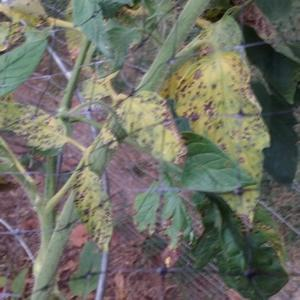Tomato Septoria leaf spot: (171, 49, 270, 231), (106, 87, 188, 185), (67, 169, 118, 260), (12, 106, 74, 159)
